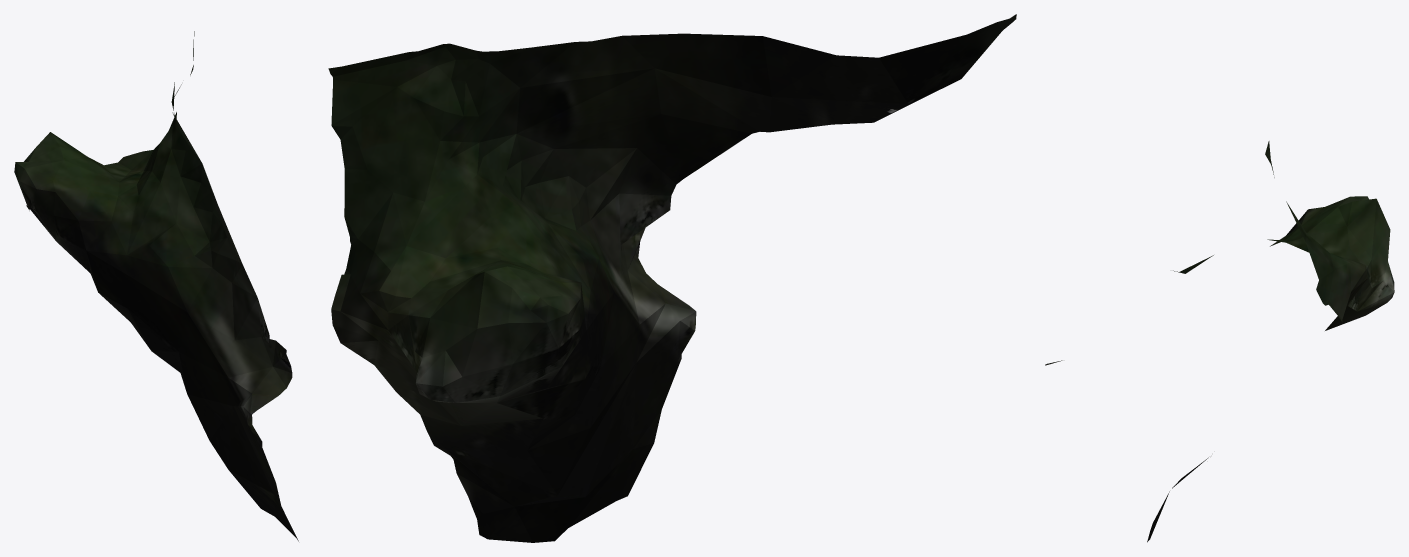
The picture shows the model from 3 angles, left to right: view 1: azimuth 30°, elevation 25°; view 2: azimuth 150°, elevation 25°; view 3: azimuth 270°, elevation 25°; orthographic projection. The views are drawn at different scales.
Bounding box in the file's own units: 0.6991 × 0.8373 × 0.696.
3 materials, 3 textured.
